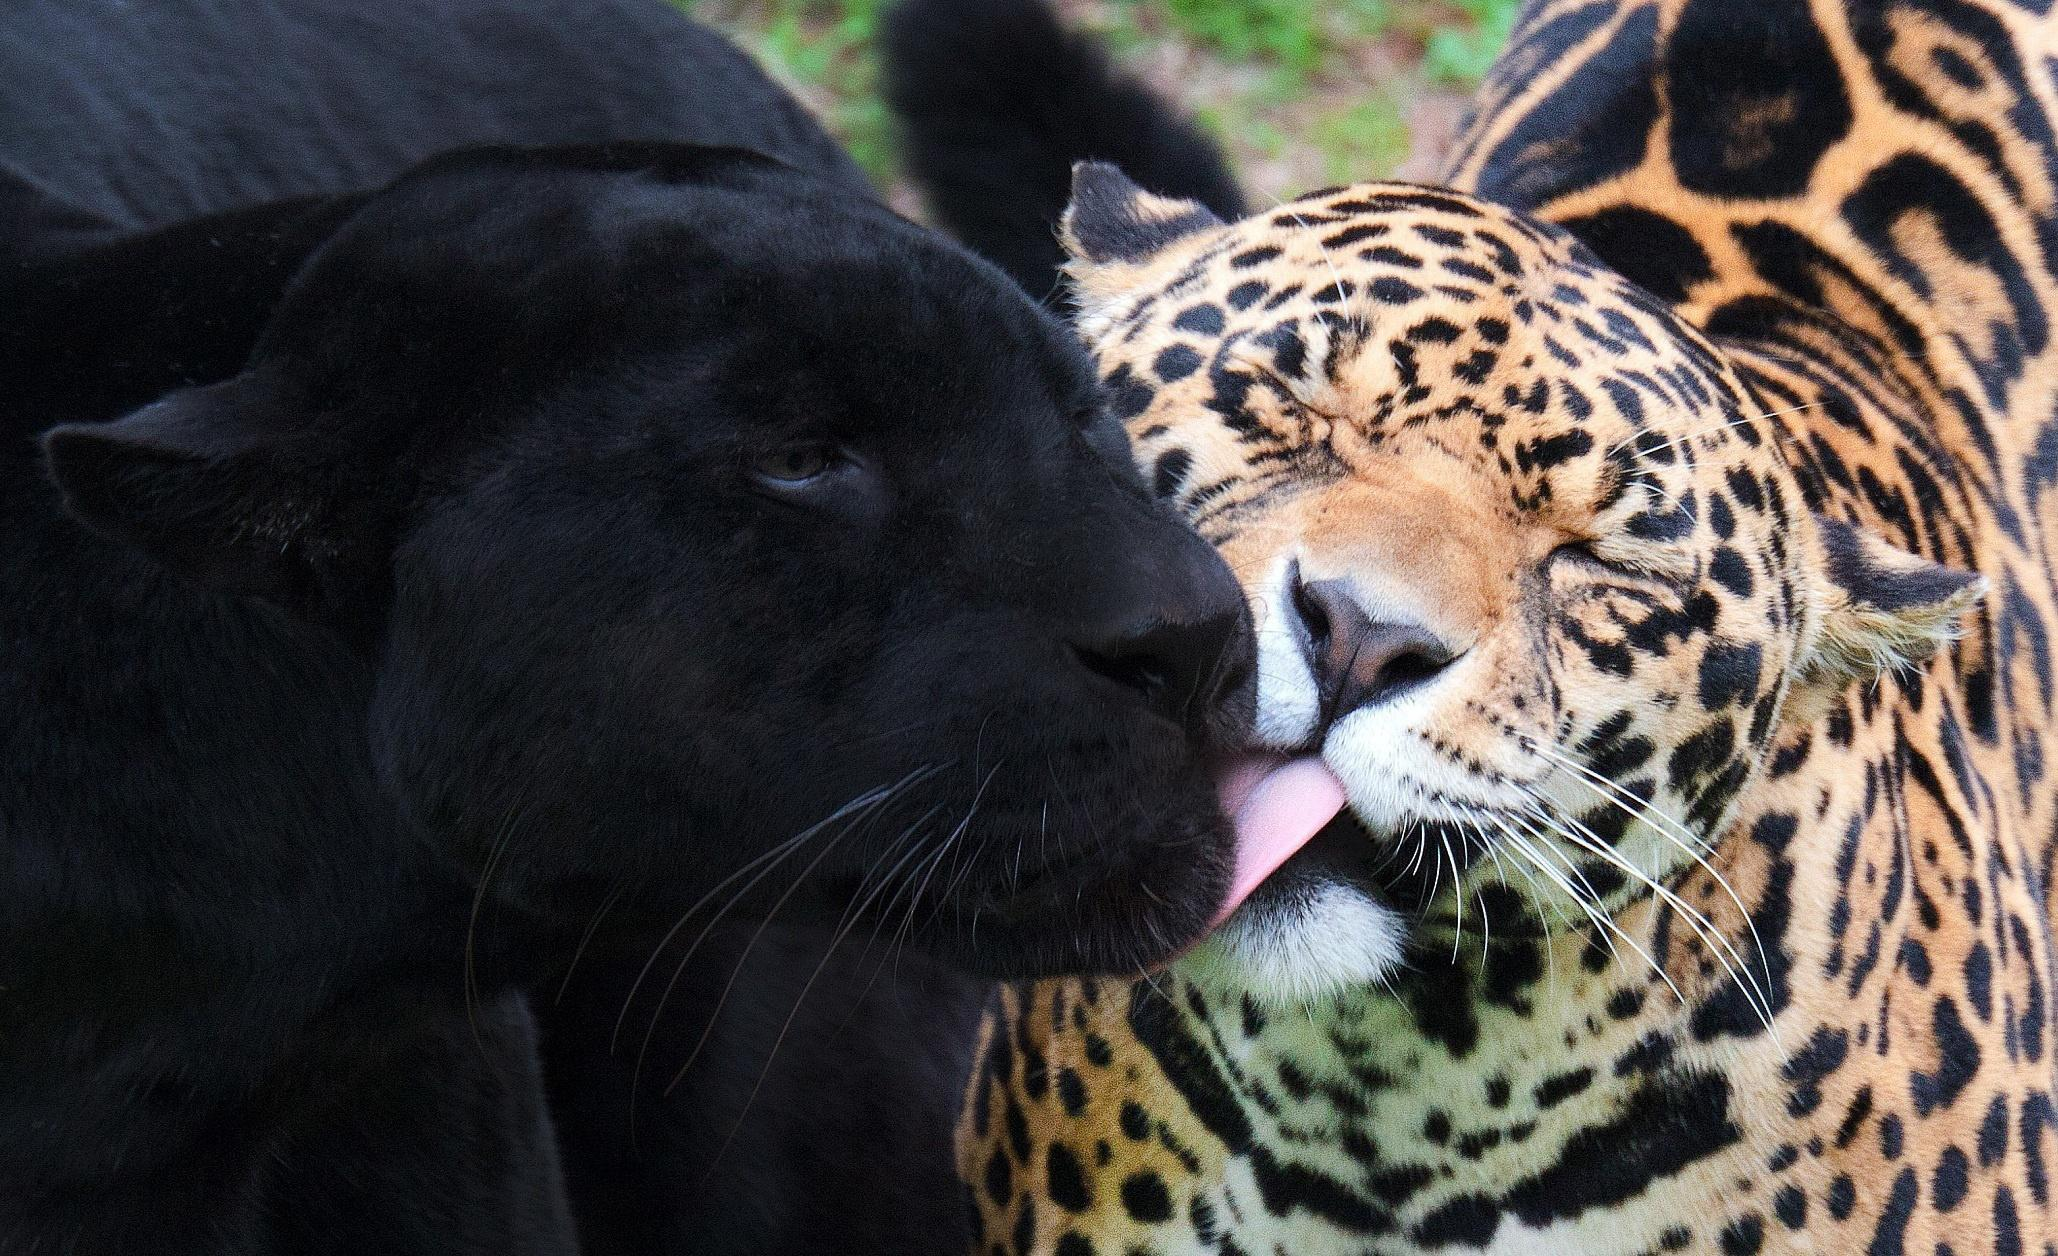leopard: (958, 1, 2054, 1256)
panther: (10, 10, 1261, 1256)
